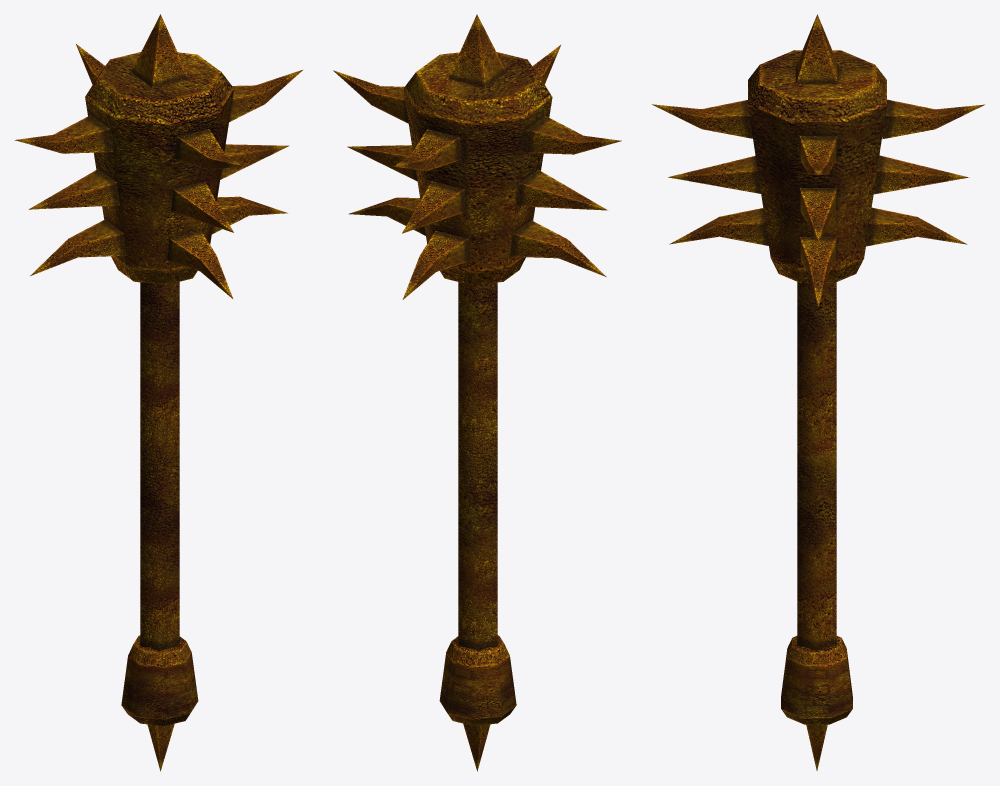
Rendered from mace01_rusty.FBX.
3 views of the same model, side by side, from view 1: azimuth 30°, elevation 25°; view 2: azimuth 150°, elevation 25°; view 3: azimuth 270°, elevation 25° (orthographic).
Parts seen in each view (by area): view 1: mace01; view 2: mace01; view 3: mace01.
Part boxes in pixels (bbox=[...]): mace01: bbox=[14, 14, 302, 771]; mace01: bbox=[333, 14, 621, 771]; mace01: bbox=[652, 14, 984, 770].
Size of the model in its own units: 0.3966 by 0.9905 by 0.3966.
